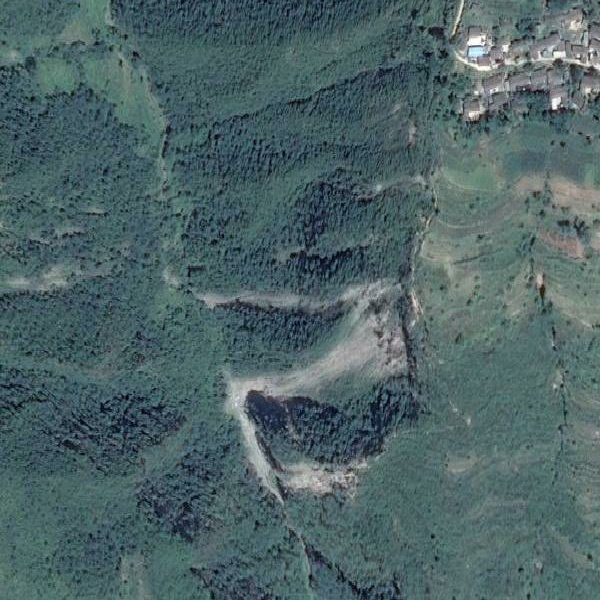slope: (190, 271, 431, 507)
